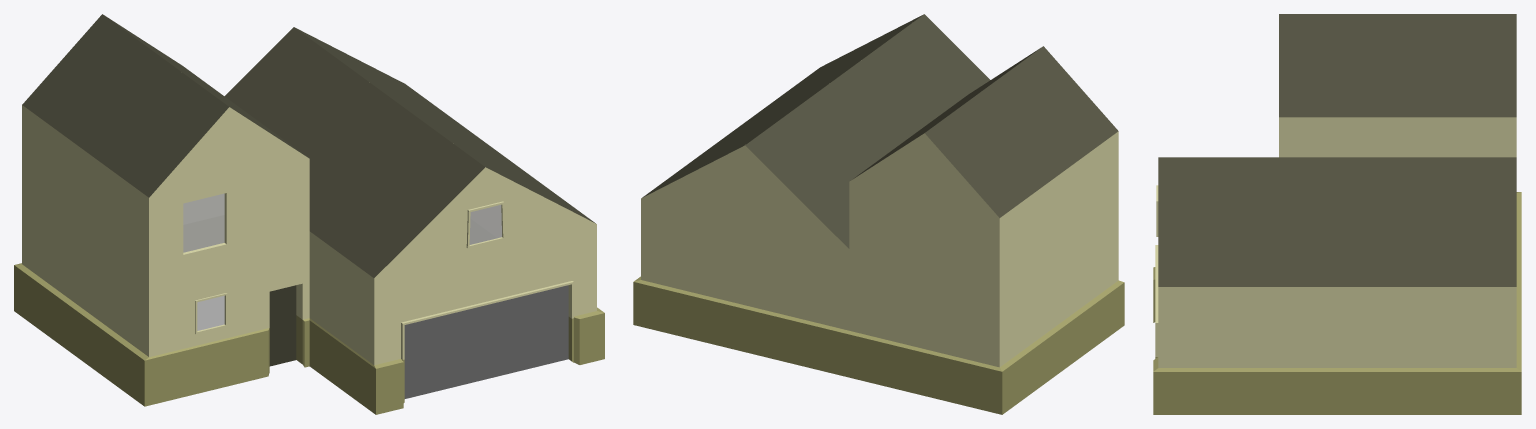
File: shittyHouse.fbx
3 renders of one model, left to right at view 1: azimuth 30°, elevation 25°; view 2: azimuth 150°, elevation 25°; view 3: azimuth 270°, elevation 25°, orthographic. The views are drawn at different scales.
Visible parts, largest first — view 1: pCube1; view 2: pCube1; view 3: pCube1.
Boxes of the visible parts, x1,y1,x2,y2 form: pCube1: (14,14,604,414); pCube1: (633,14,1124,414); pCube1: (1153,14,1521,414).
Size of the model in its own units: 4.98 by 3.36 by 4.31.
